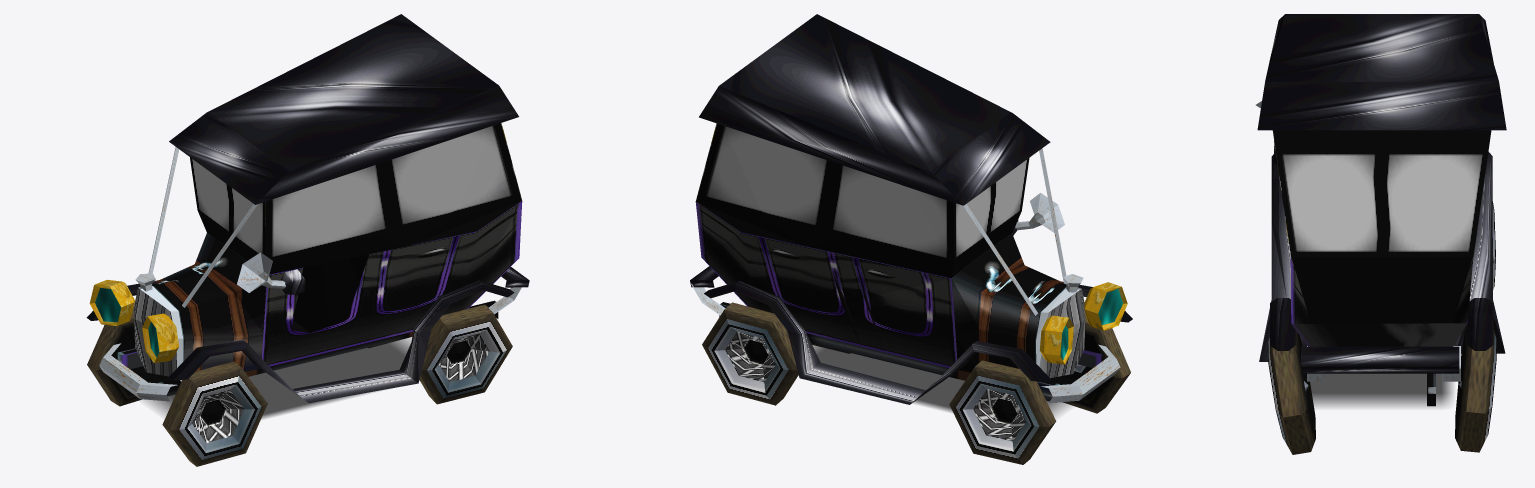
File: Oldtimer_2772.glb
The picture shows the model from 3 angles, left to right: view 1: azimuth 30°, elevation 25°; view 2: azimuth 150°, elevation 25°; view 3: azimuth 270°, elevation 25°; orthographic projection. The views are drawn at different scales.
Parts seen in each view (by area): view 1: pCubeShape2, polySurfaceShape16, polySurfaceShape13, pCylinderShape1, vrlShape, hrlShape, pCylinderShape2, polySurfaceShape17, pPlaneShape15, pPlaneShape2, pPlaneShape13, vrrShape (+8 smaller); view 2: pCubeShape2, polySurfaceShape5, polySurfaceShape8, polySurfaceShape9, pCylinderShape1, vrrShape, hrrShape, pCylinderShape3, pPlaneShape2, pPlaneShape15, vrlShape, pPlaneShape7 (+7 smaller); view 3: pCubeShape2, pPlaneShape1, pPlaneShape13, pCubeShape5, pPlaneShape15, pCylinderShape3, polySurfaceShape82, hrlShape, hrrShape, pCylinderShape2, polySurfaceShape13, polySurfaceShape8 (+1 smaller).
Boxes of the visible parts, x1=… form: pCubeShape2: x1=169, y1=14, x2=518, y2=204; polySurfaceShape16: x1=265, y1=123, x2=522, y2=274; polySurfaceShape13: x1=262, y1=201, x2=522, y2=366; pCylinderShape1: x1=152, y1=233, x2=266, y2=371; vrlShape: x1=162, y1=361, x2=267, y2=466; hrlShape: x1=419, y1=304, x2=512, y2=404; pCylinderShape2: x1=168, y1=280, x2=514, y2=403; polySurfaceShape17: x1=303, y1=174, x2=383, y2=267; pPlaneShape15: x1=144, y1=338, x2=420, y2=419; pPlaneShape2: x1=190, y1=157, x2=265, y2=260; pPlaneShape13: x1=291, y1=254, x2=369, y2=332; vrrShape: x1=87, y1=307, x2=170, y2=406; pCubeShape2: x1=699, y1=14, x2=1050, y2=205; polySurfaceShape5: x1=695, y1=123, x2=953, y2=277; polySurfaceShape8: x1=695, y1=202, x2=957, y2=367; polySurfaceShape9: x1=835, y1=174, x2=927, y2=333; pCylinderShape1: x1=951, y1=234, x2=1066, y2=372; vrrShape: x1=949, y1=360, x2=1056, y2=464; hrrShape: x1=702, y1=302, x2=798, y2=405; pCylinderShape3: x1=704, y1=281, x2=1050, y2=404; pPlaneShape2: x1=951, y1=158, x2=1029, y2=277; pPlaneShape15: x1=812, y1=344, x2=1075, y2=416; vrlShape: x1=1049, y1=316, x2=1130, y2=413; pPlaneShape7: x1=1036, y1=288, x2=1085, y2=378; pCubeShape2: x1=1257, y1=14, x2=1506, y2=130; pPlaneShape1: x1=1272, y1=130, x2=1491, y2=257; pPlaneShape13: x1=1291, y1=257, x2=1472, y2=323; pCubeShape5: x1=1301, y1=346, x2=1459, y2=373; pPlaneShape15: x1=1307, y1=373, x2=1452, y2=406; pCylinderShape3: x1=1454, y1=151, x2=1505, y2=353; polySurfaceShape82: x1=1291, y1=323, x2=1467, y2=346; hrlShape: x1=1268, y1=331, x2=1315, y2=454; hrrShape: x1=1455, y1=328, x2=1496, y2=452; pCylinderShape2: x1=1259, y1=154, x2=1307, y2=361; polySurfaceShape13: x1=1290, y1=257, x2=1310, y2=323; polySurfaceShape8: x1=1453, y1=257, x2=1473, y2=323.
Bounding box in the file's own units: 0.5959 × 0.3874 × 0.2648.
45 materials, 43 textured.
